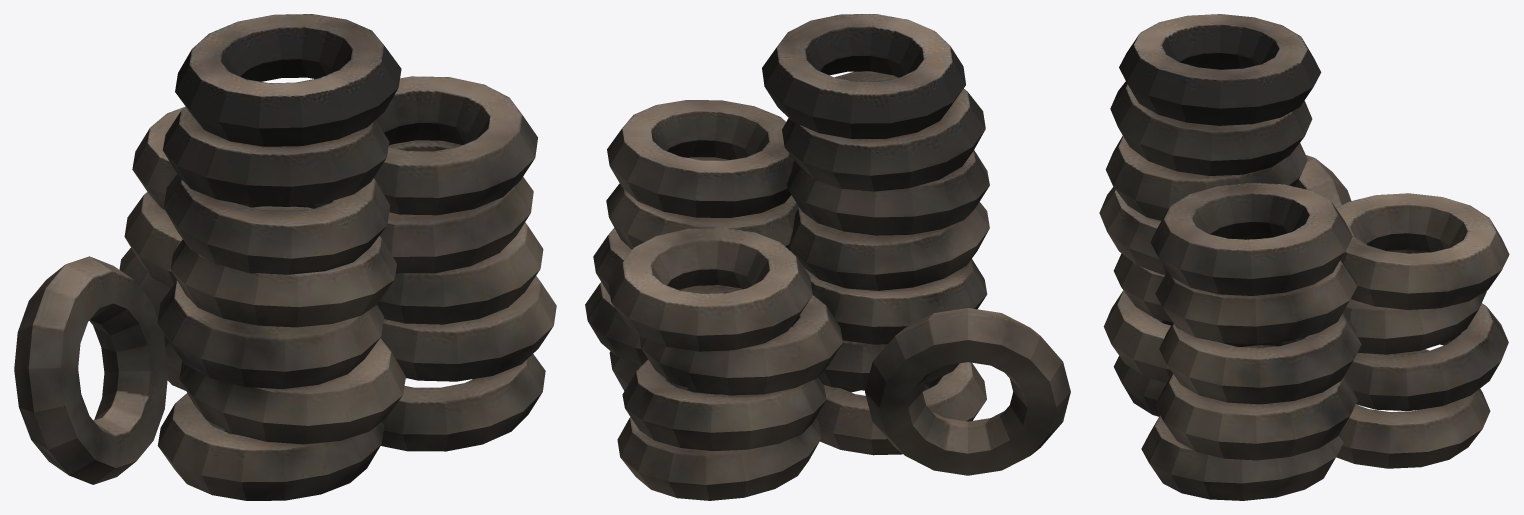
File: tyre_tower.glb
3 renders of one model, left to right at view 1: azimuth 30°, elevation 25°; view 2: azimuth 150°, elevation 25°; view 3: azimuth 270°, elevation 25°, orthographic. The views are drawn at different scales.
Parts seen in each view (by area): view 1: TyreTower_Mesh; view 2: TyreTower_Mesh; view 3: TyreTower_Mesh.
Part boxes in pixels (bbox=[...]): TyreTower_Mesh: bbox=[14, 14, 556, 500]; TyreTower_Mesh: bbox=[585, 14, 1070, 500]; TyreTower_Mesh: bbox=[1099, 14, 1509, 500].
Bounding box in the file's own units: 1.96 × 1.49 × 1.52.
1 material, 1 textured.
